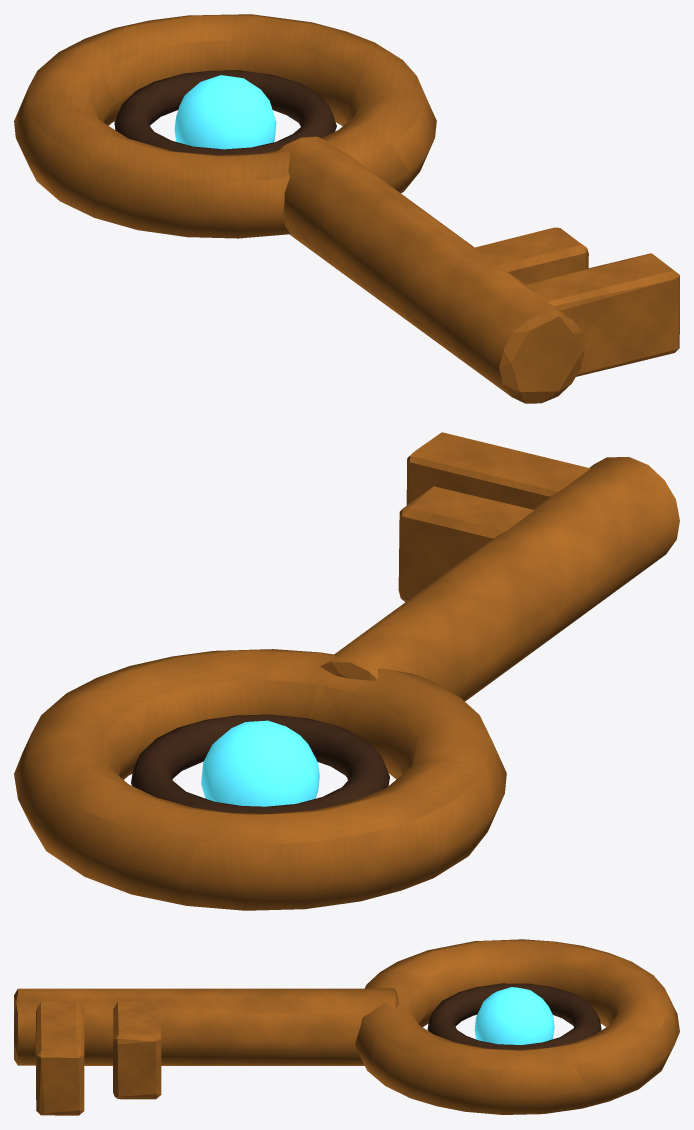
Rendered from relic_02_low.glb.
3 views of the same model, one above another, from view 1: azimuth 30°, elevation 25°; view 2: azimuth 150°, elevation 25°; view 3: azimuth 270°, elevation 25° (orthographic). The views are drawn at different scales.
Visible parts, largest first — view 1: Brushed_gold, Patinated_bronze, Luminous_aquamarine; view 2: Brushed_gold, Patinated_bronze, Luminous_aquamarine; view 3: Brushed_gold, Patinated_bronze, Luminous_aquamarine.
Boxes of the visible parts, x1=… form: Brushed_gold: x1=14, y1=14, x2=679, y2=403; Patinated_bronze: x1=114, y1=70, x2=336, y2=155; Luminous_aquamarine: x1=174, y1=75, x2=276, y2=149; Brushed_gold: x1=14, y1=432, x2=679, y2=910; Patinated_bronze: x1=131, y1=714, x2=389, y2=813; Luminous_aquamarine: x1=201, y1=720, x2=319, y2=806; Brushed_gold: x1=14, y1=939, x2=679, y2=1115; Patinated_bronze: x1=427, y1=983, x2=601, y2=1049; Luminous_aquamarine: x1=474, y1=987, x2=554, y2=1044.
Size of the model in its own units: 0.43 by 0.104 by 0.8649.
3 materials, 2 textured.
